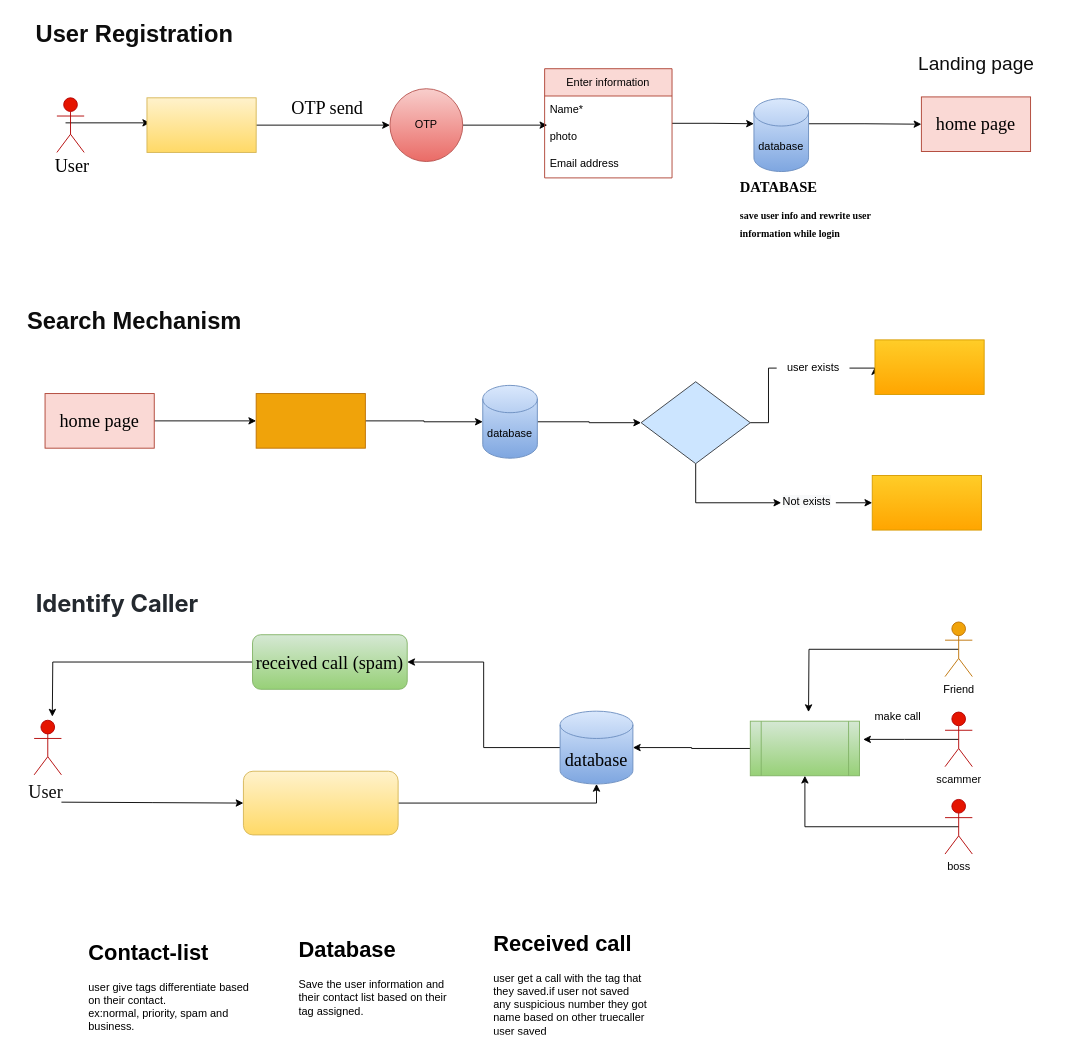
This 1069x1059 diagram has some shape labels left out. The centre of each missing label's shape, as x and y in pixels:
check if: [695,422]
Enter phone number: [201,124]
Make a call: [804,748]
save contact list: [320,802]
Search number: [310,420]
Show name: [929,366]
show the name based on other truecaller user saved: [926,502]
